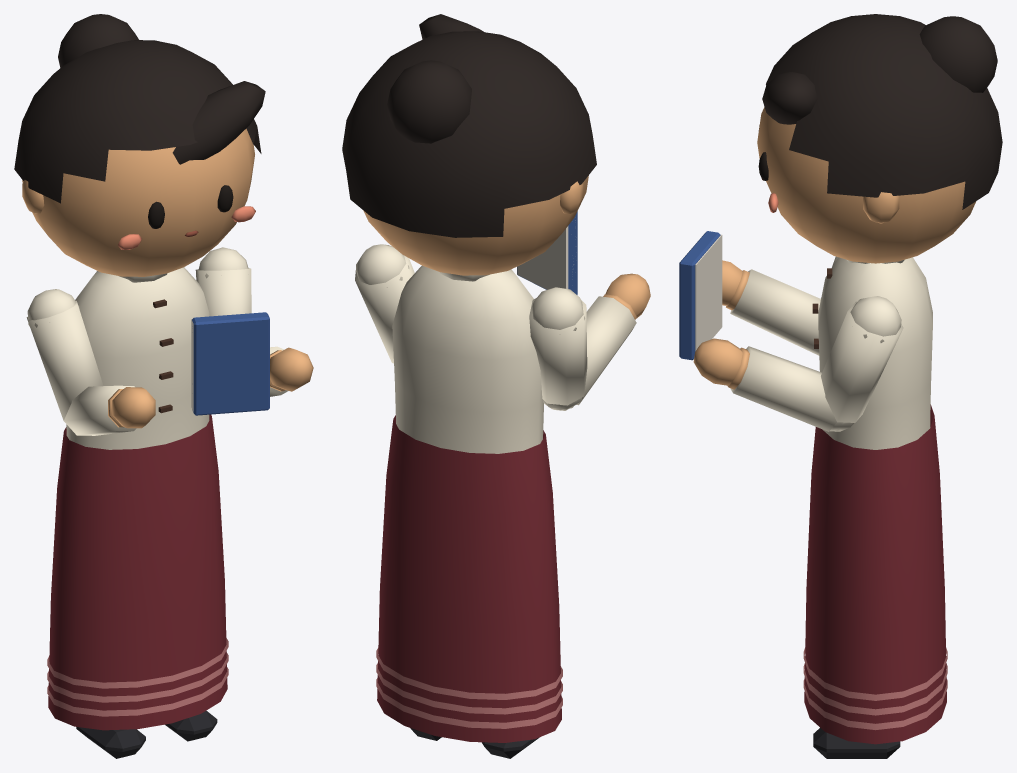
The model's file is era2_teacher_book.glb.
3 renders of one model, left to right at view 1: azimuth 30°, elevation 25°; view 2: azimuth 150°, elevation 25°; view 3: azimuth 270°, elevation 25°, orthographic. The views are drawn at different scales.
Visible parts, largest first — view 1: body, head, prop_book, arm_R, forearm_R, arm_L, forearm_L, shin_R, shin_L; view 2: body, head, arm_R, forearm_R, arm_L, prop_book, shin_R; view 3: body, head, forearm_L, arm_L, forearm_R, prop_book, shin_L.
Part boxes in pixels (x1=…): body: x1=47, y1=267, x2=228, y2=730; head: x1=14, y1=14, x2=265, y2=276; prop_book: x1=191, y1=312, x2=269, y2=415; arm_R: x1=26, y1=289, x2=103, y2=427; forearm_R: x1=64, y1=385, x2=155, y2=435; arm_L: x1=195, y1=247, x2=251, y2=316; forearm_L: x1=270, y1=346, x2=313, y2=396; shin_R: x1=76, y1=727, x2=145, y2=758; shin_L: x1=165, y1=710, x2=217, y2=741; body: x1=376, y1=265, x2=562, y2=742; head: x1=342, y1=14, x2=596, y2=275; arm_R: x1=529, y1=287, x2=587, y2=410; forearm_R: x1=543, y1=273, x2=650, y2=410; arm_L: x1=355, y1=244, x2=414, y2=363; prop_book: x1=517, y1=211, x2=577, y2=294; shin_R: x1=482, y1=737, x2=539, y2=758; body: x1=803, y1=257, x2=947, y2=744; head: x1=757, y1=14, x2=1002, y2=263; forearm_L: x1=693, y1=338, x2=853, y2=431; arm_L: x1=821, y1=296, x2=903, y2=431; forearm_R: x1=722, y1=260, x2=820, y2=355; prop_book: x1=679, y1=231, x2=722, y2=360; shin_L: x1=813, y1=728, x2=900, y2=758.
Size of the model in its own units: 0.4932 by 1.47 by 0.6016.
